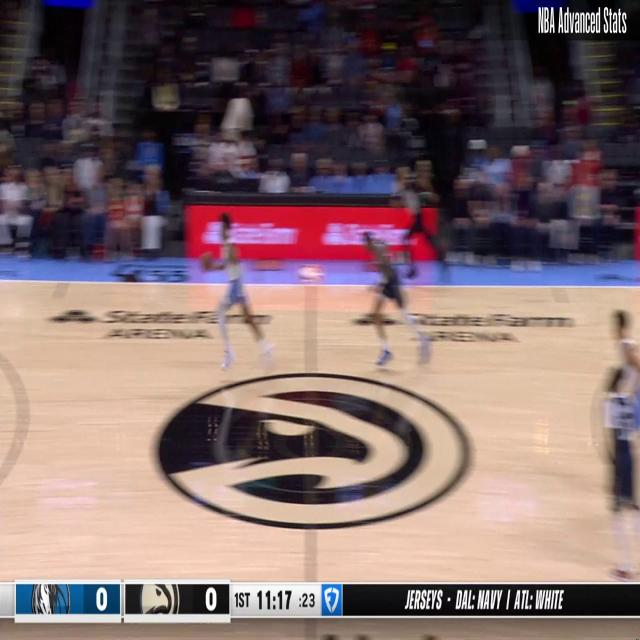player: (198, 211, 276, 374), (358, 227, 432, 371)
